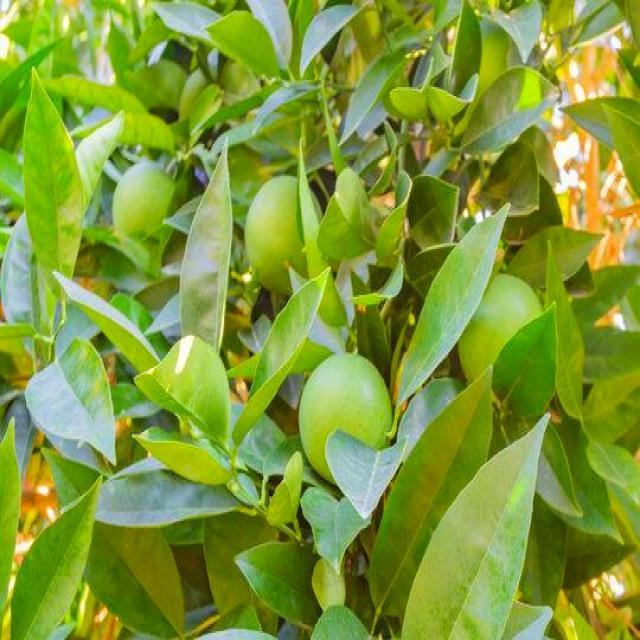Jeruk Belum Matang: (298, 354, 392, 474), (458, 272, 546, 388), (246, 174, 326, 297), (112, 160, 178, 249)
